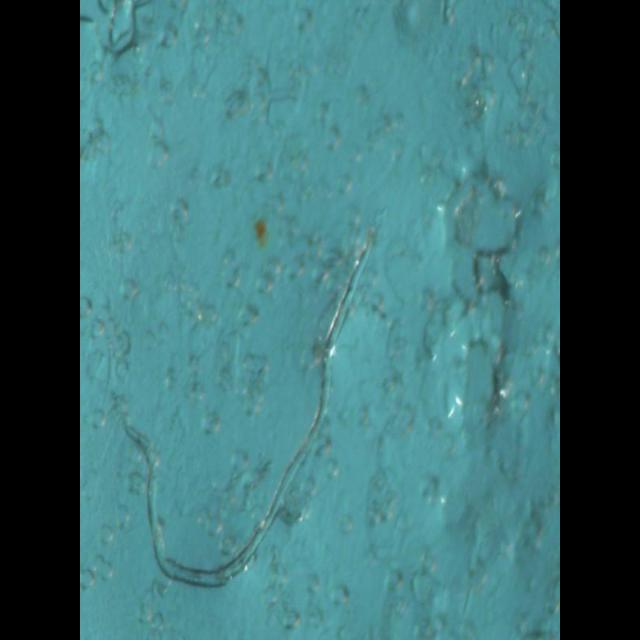Fibre: (106, 223, 378, 591)
